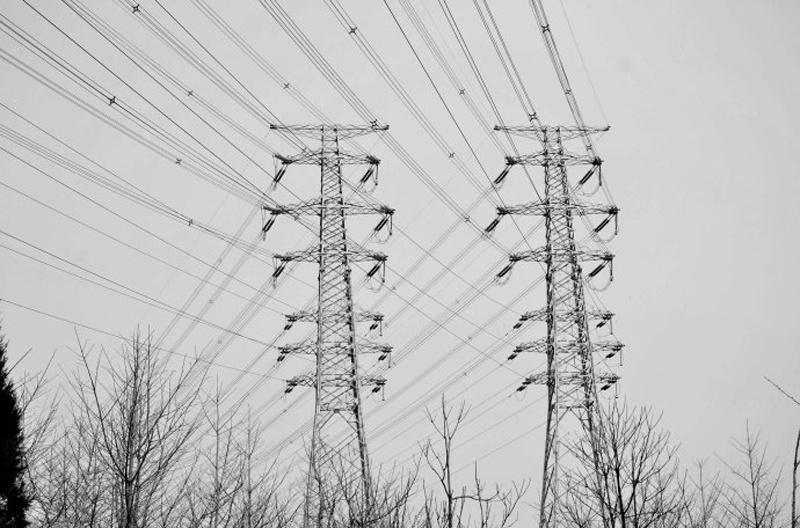power_tower: (479, 110, 659, 524), (243, 112, 421, 523)
